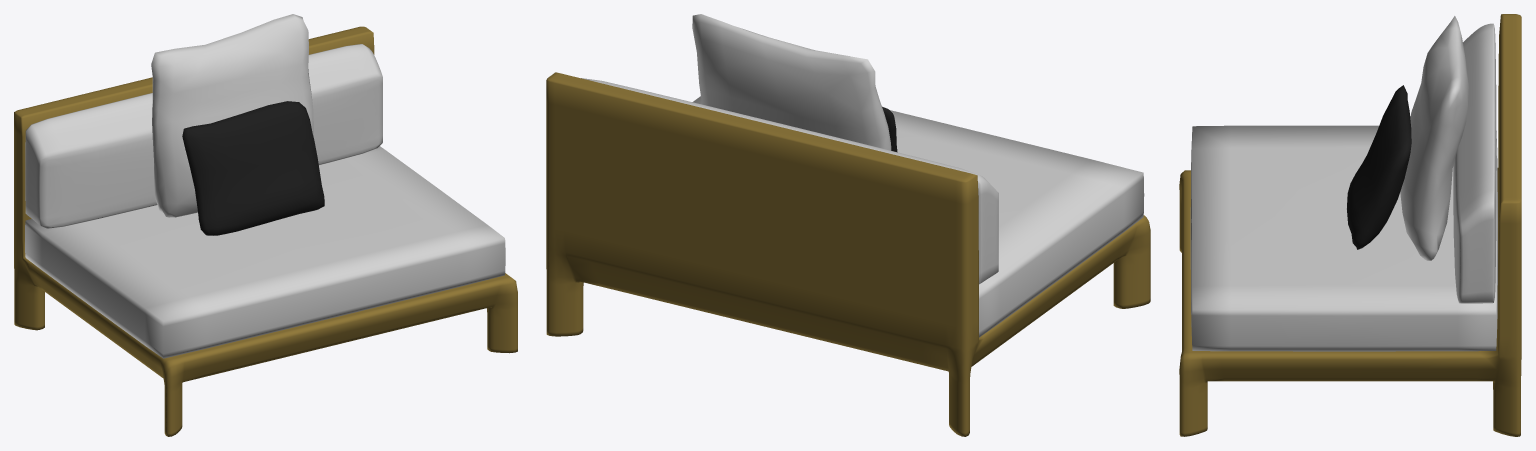
The model's file is ext_chair.obj.
3 renders of one model, left to right at view 1: azimuth 30°, elevation 25°; view 2: azimuth 150°, elevation 25°; view 3: azimuth 270°, elevation 25°, orthographic. The views are drawn at different scales.
Visible parts, largest first — view 1: Mesh_cojin_espal_ext.002_Cube.103; view 2: Mesh_cojin_espal_ext.002_Cube.103; view 3: Mesh_cojin_espal_ext.002_Cube.103.
Boxes of the visible parts, x1,y1,x2,y2 form: Mesh_cojin_espal_ext.002_Cube.103: (14, 14, 517, 436); Mesh_cojin_espal_ext.002_Cube.103: (546, 14, 1150, 436); Mesh_cojin_espal_ext.002_Cube.103: (1179, 14, 1521, 436).
Bounding box in the file's own units: 10 × 7.35 × 7.64.
